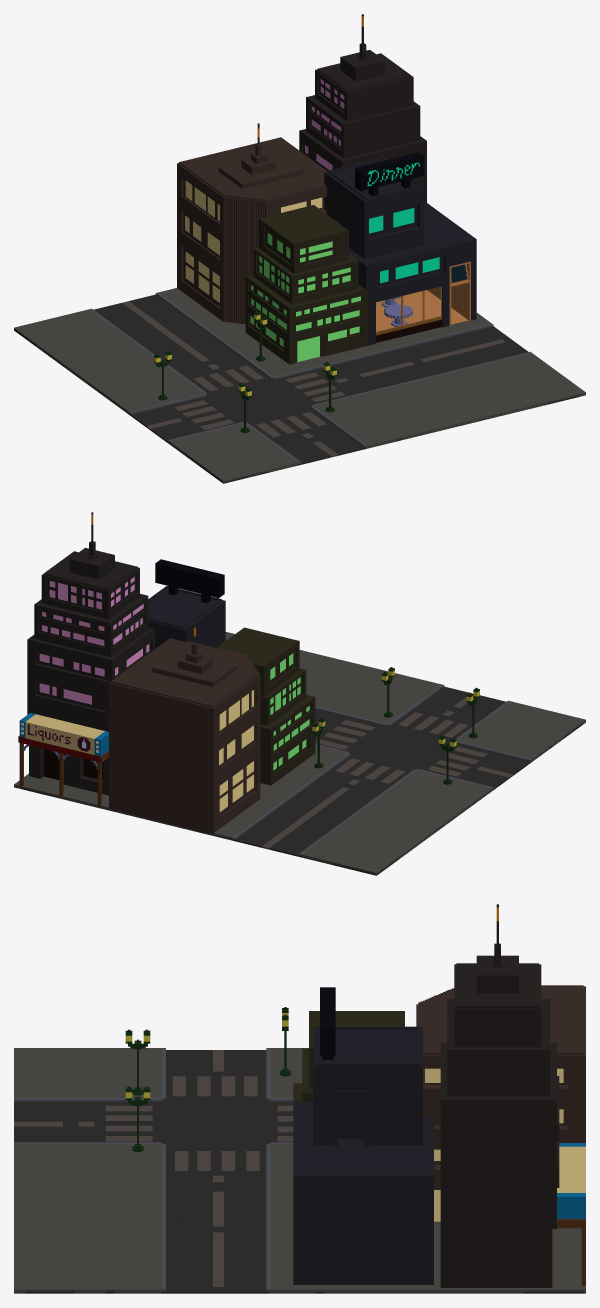
The model's file is Street4.obj.
The picture shows the model from 3 angles, top to bottom: view 1: azimuth 30°, elevation 25°; view 2: azimuth 150°, elevation 25°; view 3: azimuth 270°, elevation 25°; orthographic projection. The views are drawn at different scales.
Size of the model in its own units: 25.6 by 17.7 by 25.6.
1 material, 1 textured.
